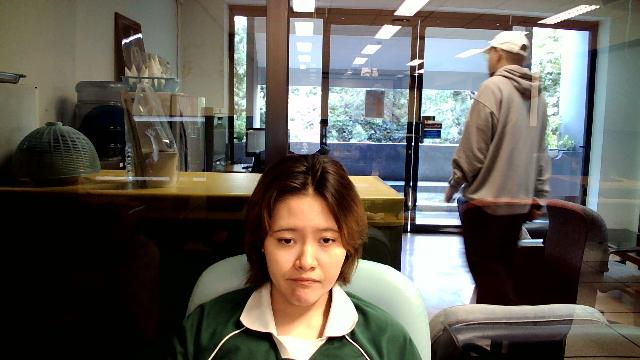fokus: (257, 191, 354, 302)
